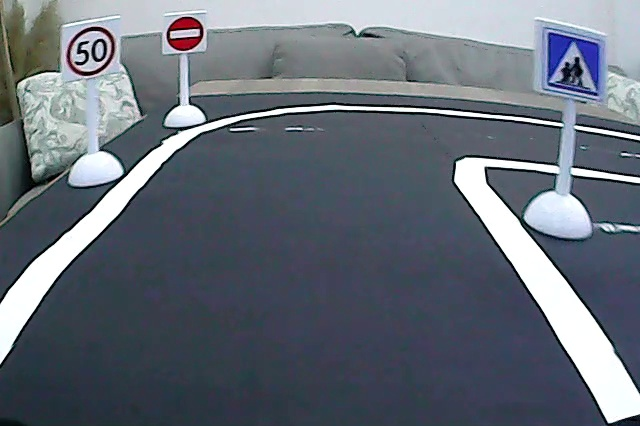do not enter: (164, 13, 205, 54)
school crossing: (539, 26, 604, 99)
speed limit 50: (64, 23, 117, 78)
